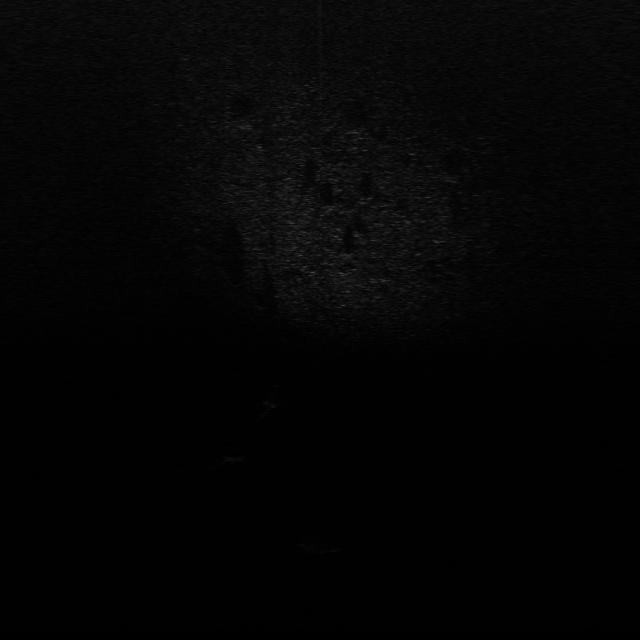ball: (221, 443, 247, 465)
circle cage: (297, 533, 354, 556)
human body: (256, 377, 280, 423)
